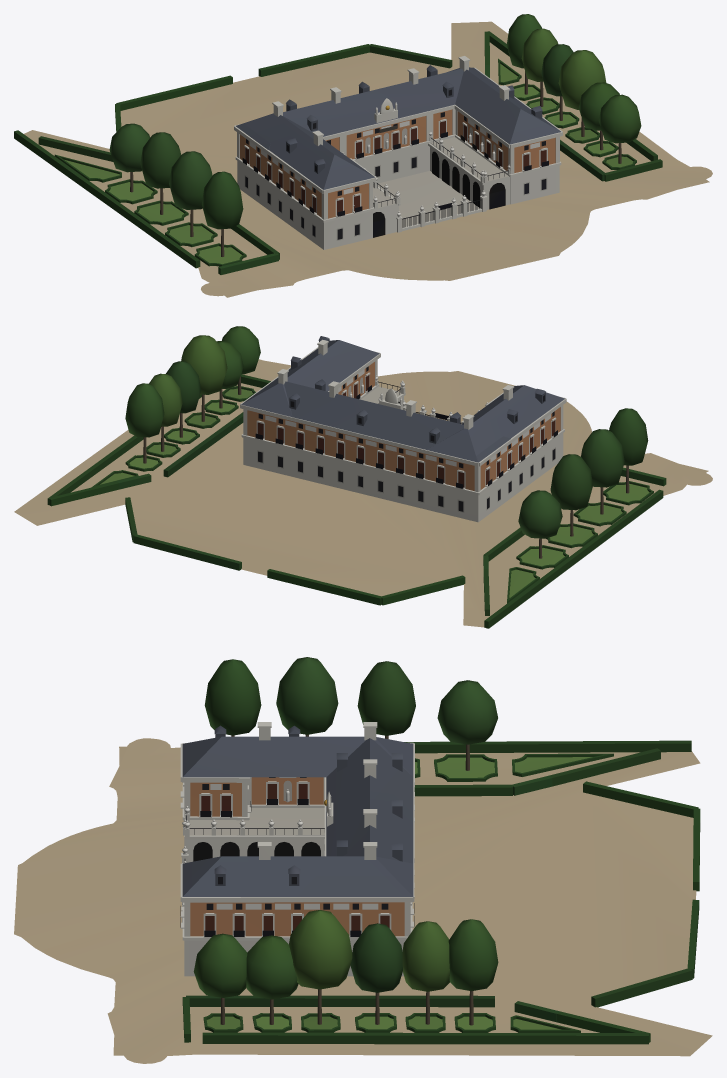
The picture shows the model from 3 angles, top to bottom: view 1: azimuth 30°, elevation 25°; view 2: azimuth 150°, elevation 25°; view 3: azimuth 270°, elevation 25°; orthographic projection. The views are drawn at different scales.
Visible parts, largest first — view 1: surroundings, house; view 2: surroundings, house; view 3: surroundings, house.
Part boxes in pixels (<box>): surroundings: <box>14,14,712,297</box>; house: <box>234,56,562,249</box>; surroundings: <box>14,326,712,628</box>; house: <box>240,336,566,522</box>; surroundings: <box>14,657,712,1063</box>; house: <box>180,722,414,976</box>.
Size of the model in its own units: 104 by 19.45 by 94.74.
